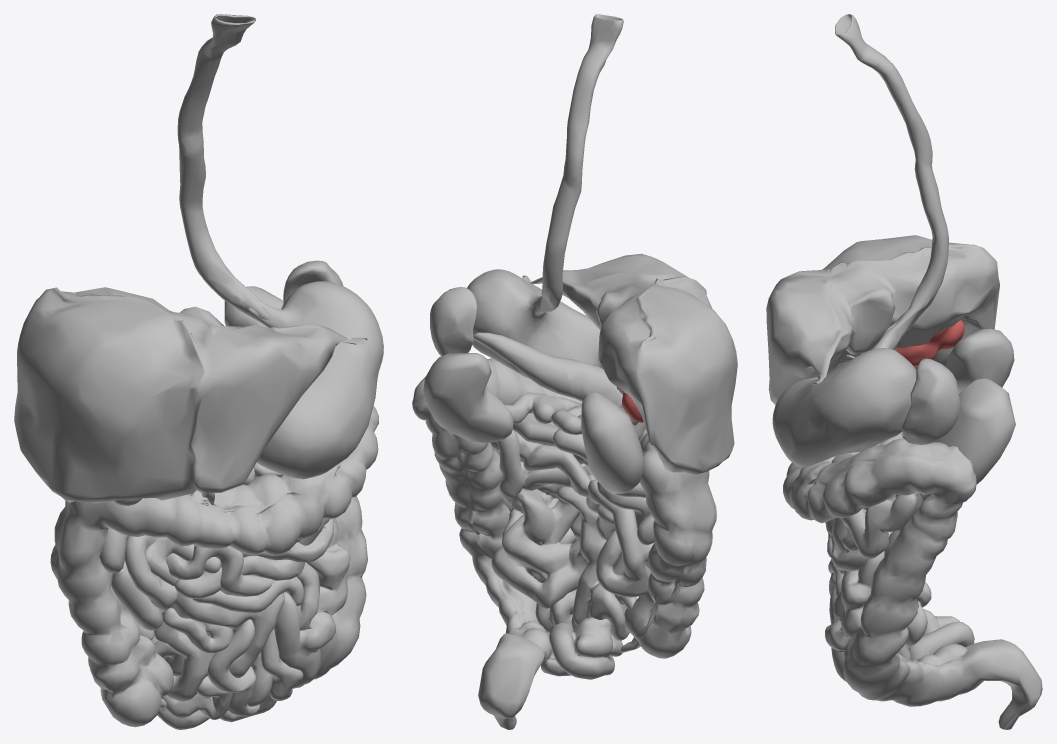
Rendered from gastrointestinale1.fbx.
3 renders of one model, left to right at view 1: azimuth 30°, elevation 25°; view 2: azimuth 150°, elevation 25°; view 3: azimuth 270°, elevation 25°, orthographic. The views are drawn at different scales.
Parts seen in each view (by area): view 1: Lever, Dunne_darms, Dikke_darms, Dunne_darms.001, Milt, Niertjes; view 2: Dunne_darms, Dikke_darms, Lever, Dunne_darms.001, Niertjes, Pancreas, Milt; view 3: Dikke_darms, Lever, Dunne_darms.001, Dunne_darms, Niertjes, Milt, Tumore.
Part boxes in pixels (<box>): Lever: <box>14,287,367,505</box>; Dunne_darms: <box>99,462,350,729</box>; Dikke_darms: <box>50,406,378,727</box>; Dunne_darms.001: <box>177,14,383,479</box>; Milt: <box>283,260,343,304</box>; Niertjes: <box>224,286,283,327</box>; Dunne_darms: <box>490,392,654,679</box>; Dikke_darms: <box>412,358,716,729</box>; Lever: <box>522,253,737,474</box>; Dunne_darms.001: <box>467,14,623,394</box>; Niertjes: <box>423,353,644,493</box>; Pancreas: <box>473,332,638,425</box>; Milt: <box>430,287,477,356</box>; Dikke_darms: <box>783,438,1042,729</box>; Lever: <box>766,235,999,404</box>; Dunne_darms.001: <box>772,14,948,466</box>; Dunne_darms: <box>825,432,974,701</box>; Niertjes: <box>935,328,1015,484</box>; Milt: <box>901,358,960,444</box>; Tumore: <box>894,320,964,366</box>.
Bounding box in the file's own units: 289 × 648 × 233.
